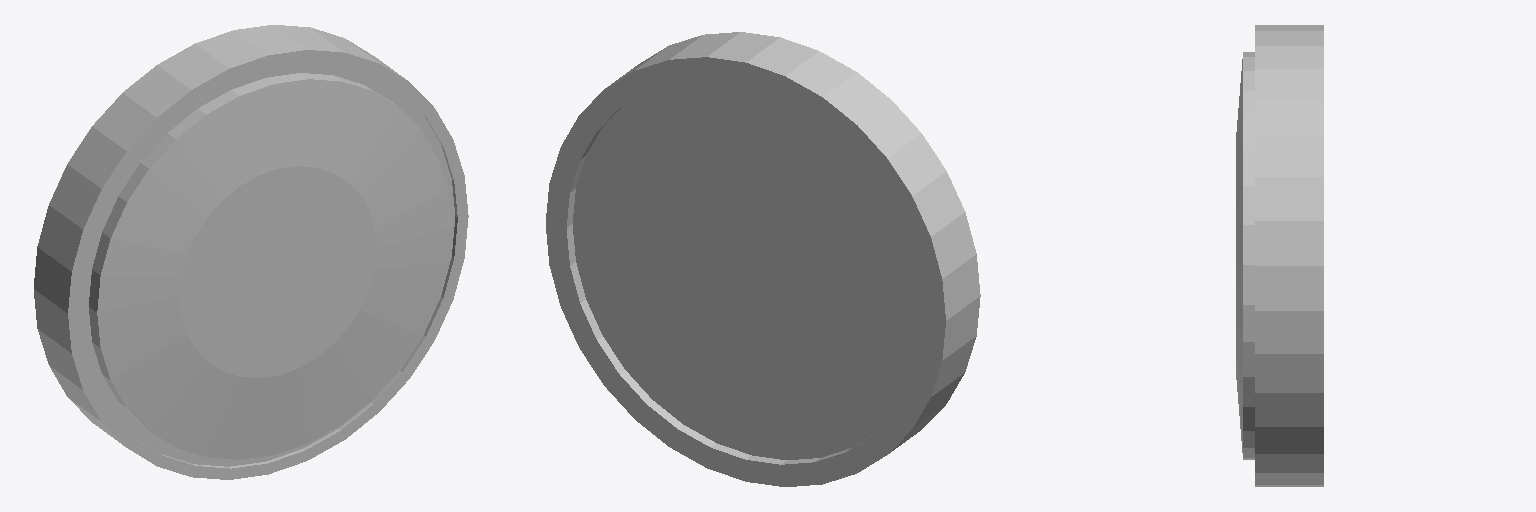
File: Stop Button 01.obj
The picture shows the model from 3 angles: view 1: azimuth 30°, elevation 25°; view 2: azimuth 150°, elevation 25°; view 3: azimuth 270°, elevation 25°; orthographic projection.
Visible parts, largest first — view 1: Stop_Button_Cylinder.002; view 2: Stop_Button_Cylinder.002; view 3: Stop_Button_Cylinder.002.
Part boxes in pixels (x1,y1,x2,y2): Stop_Button_Cylinder.002: (34, 25, 468, 479); Stop_Button_Cylinder.002: (546, 32, 980, 486); Stop_Button_Cylinder.002: (1236, 25, 1323, 486).
Bounding box in the file's own units: 1.05 × 1.05 × 0.201.